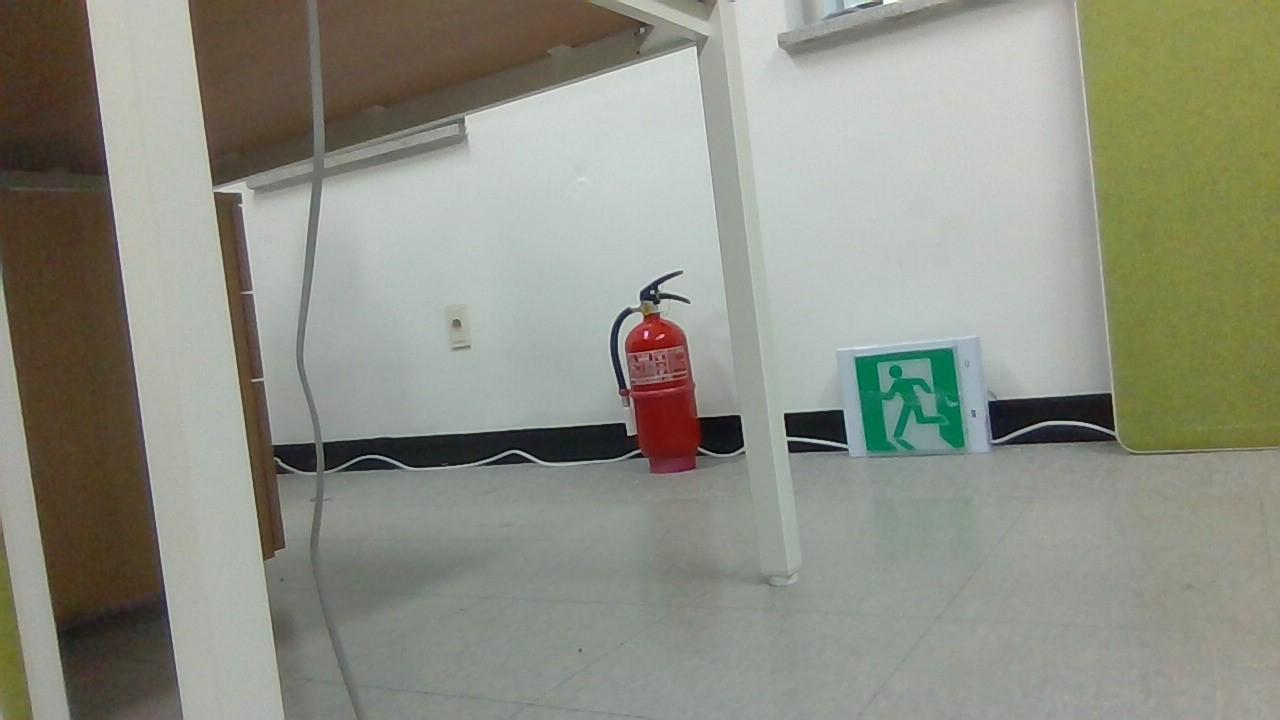emergency_exit: (835, 335, 992, 458)
